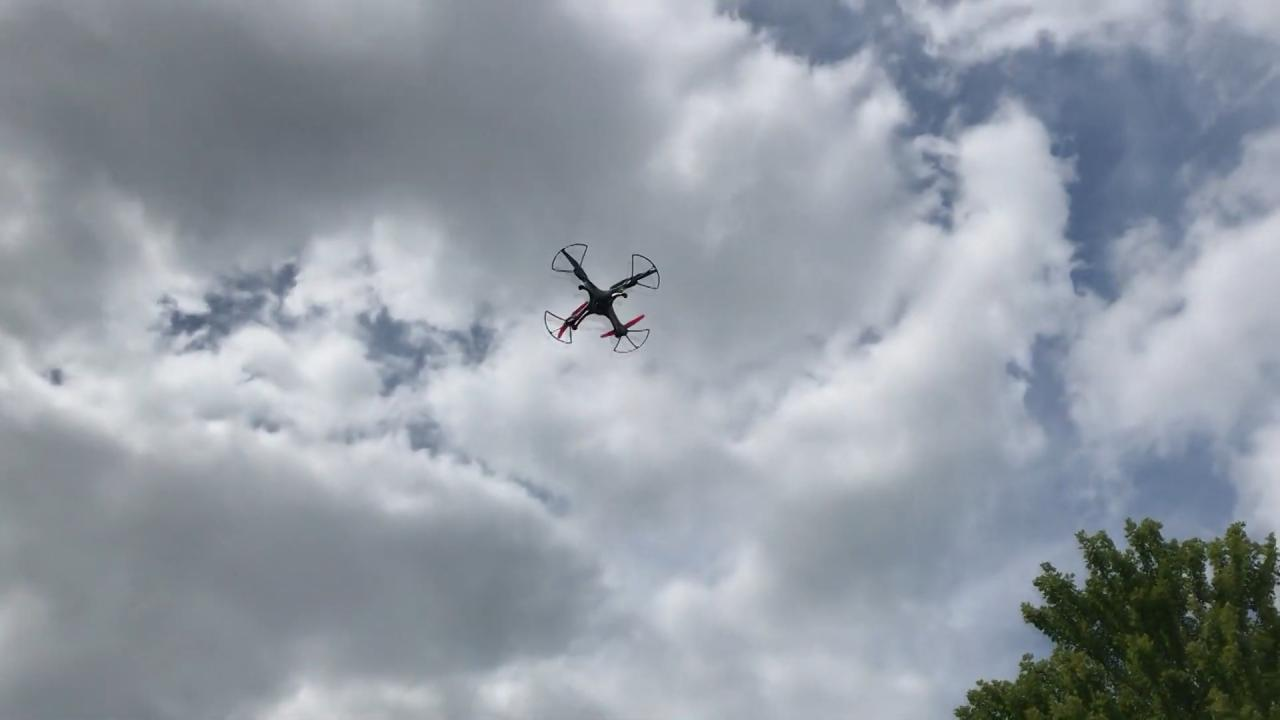Drone: (534, 229, 669, 362)
